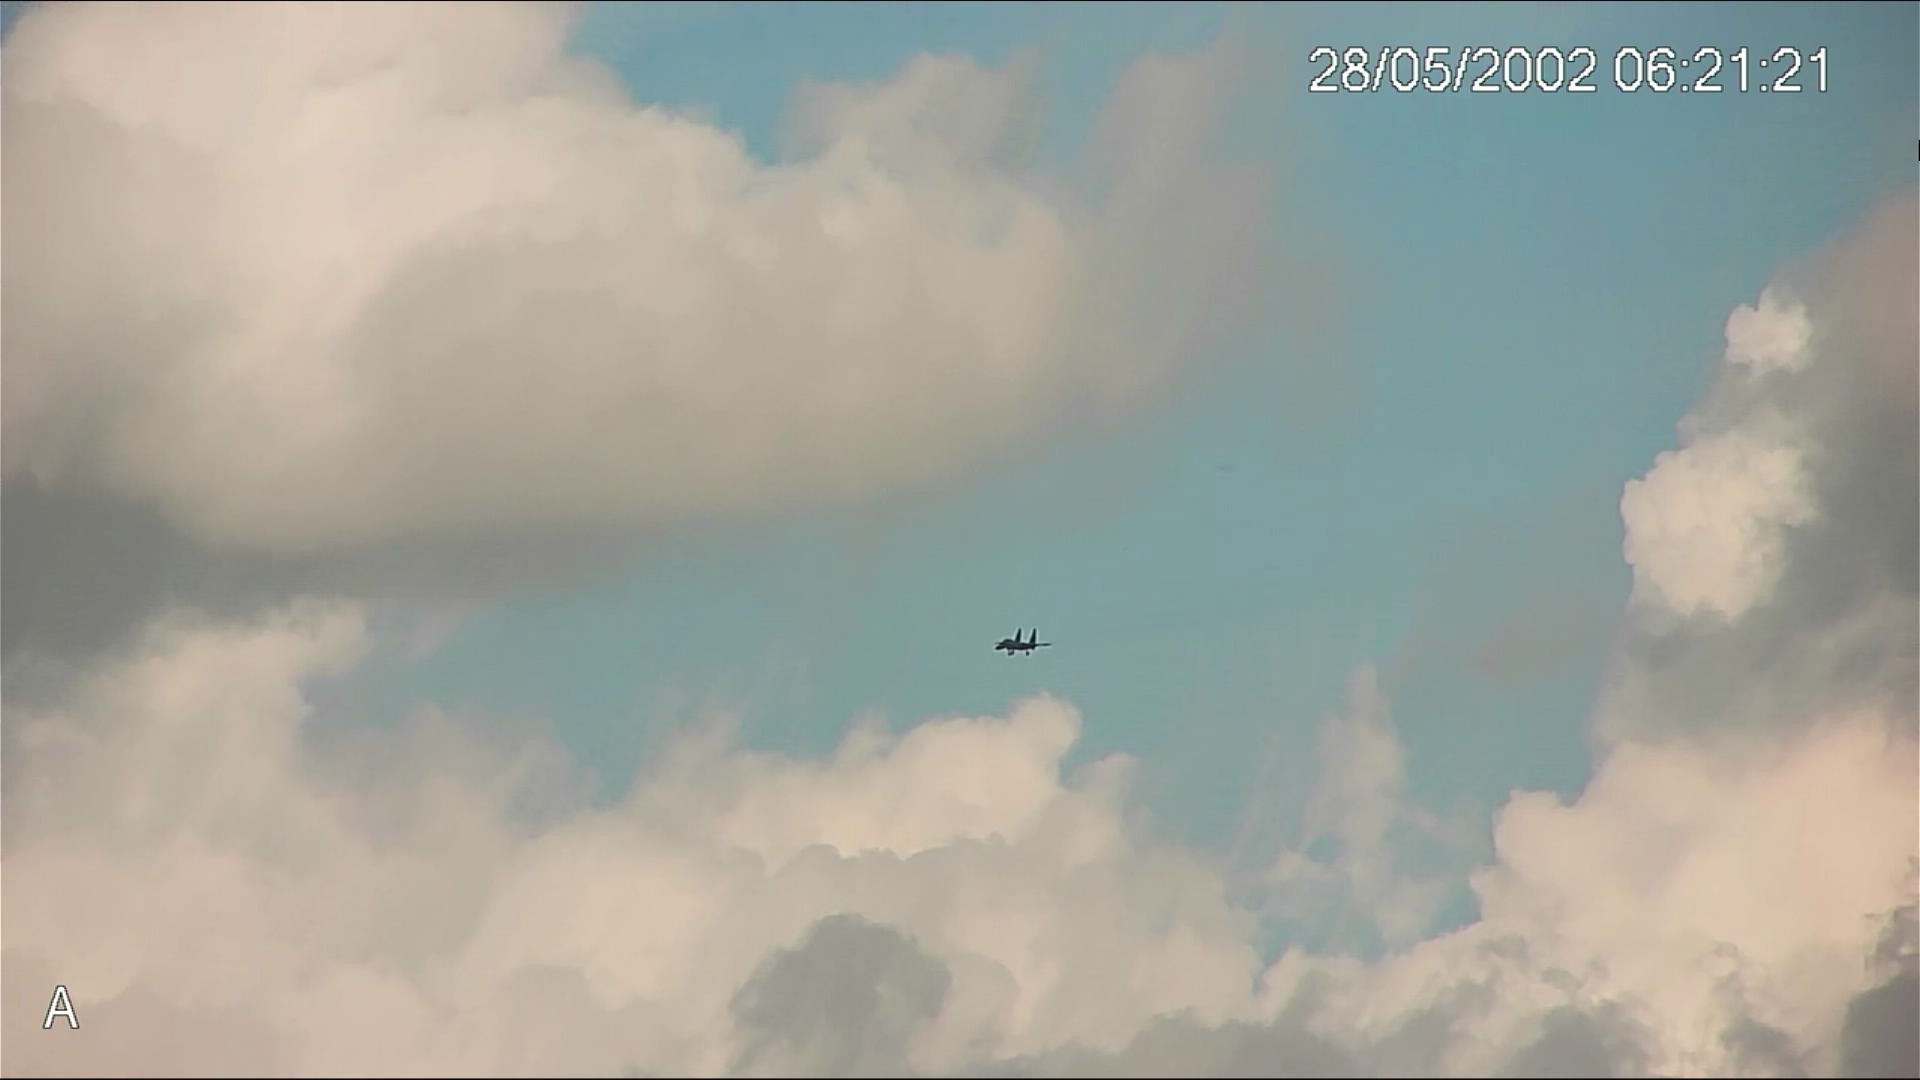SU_30: (992, 622, 1051, 662)
